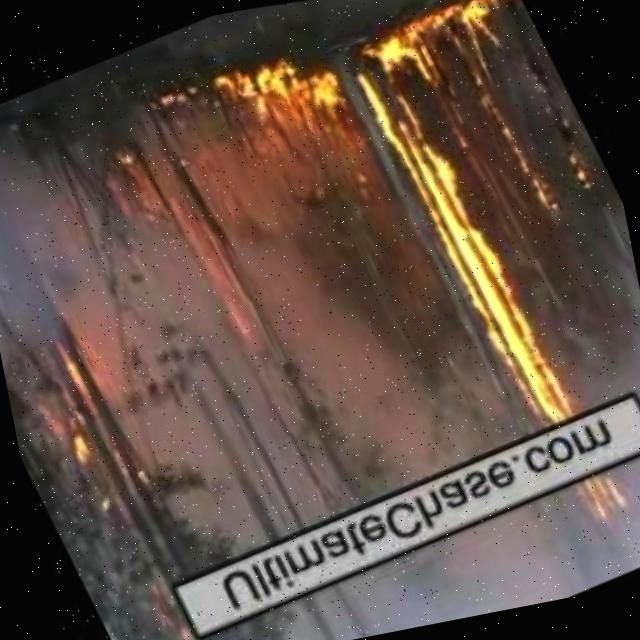fire: (338, 8, 574, 456), (209, 34, 355, 158), (431, 0, 546, 74), (570, 471, 640, 525)
